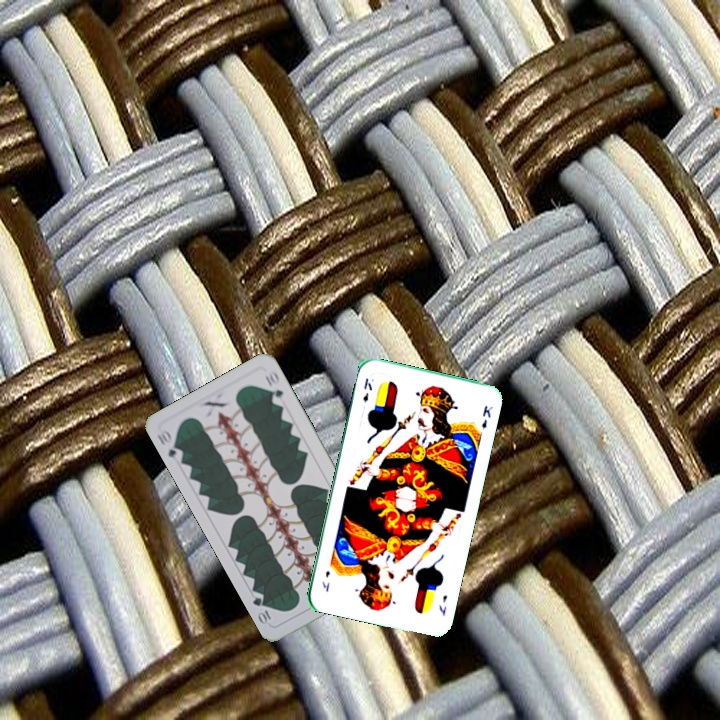EK: (359, 374, 375, 404), (435, 591, 450, 618)
G10: (153, 425, 186, 464)
